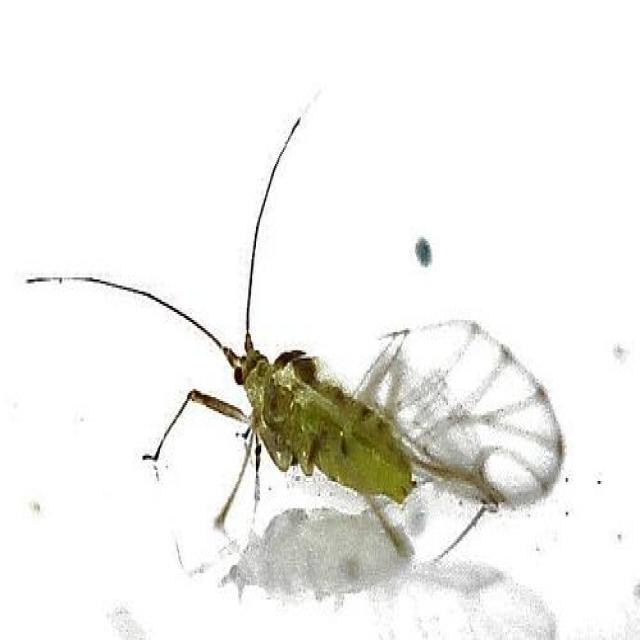Aphids: (64, 194, 564, 583)
